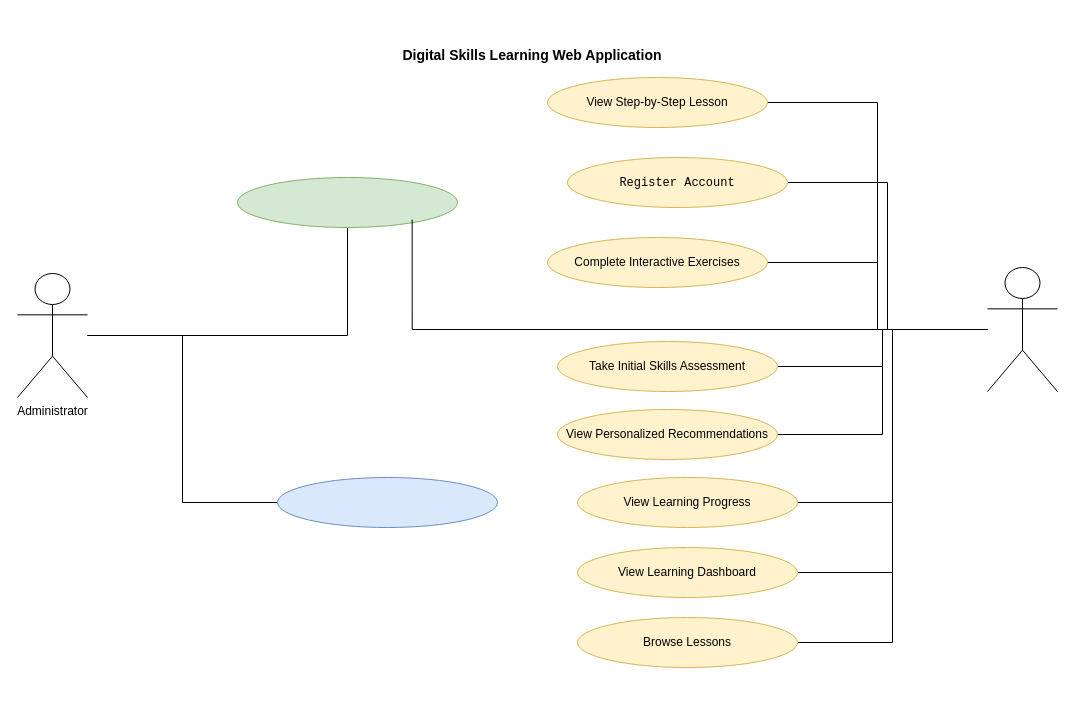
Some shapes in this 1092 by 705 pixel diagram are drawn without their labels. Each missing label, with the centre of its shape:
"Log In / Log Out" goes at point (347, 202).
"Manage Learning Content" goes at point (387, 502).
"Older Adult Learner" goes at point (1022, 329).
